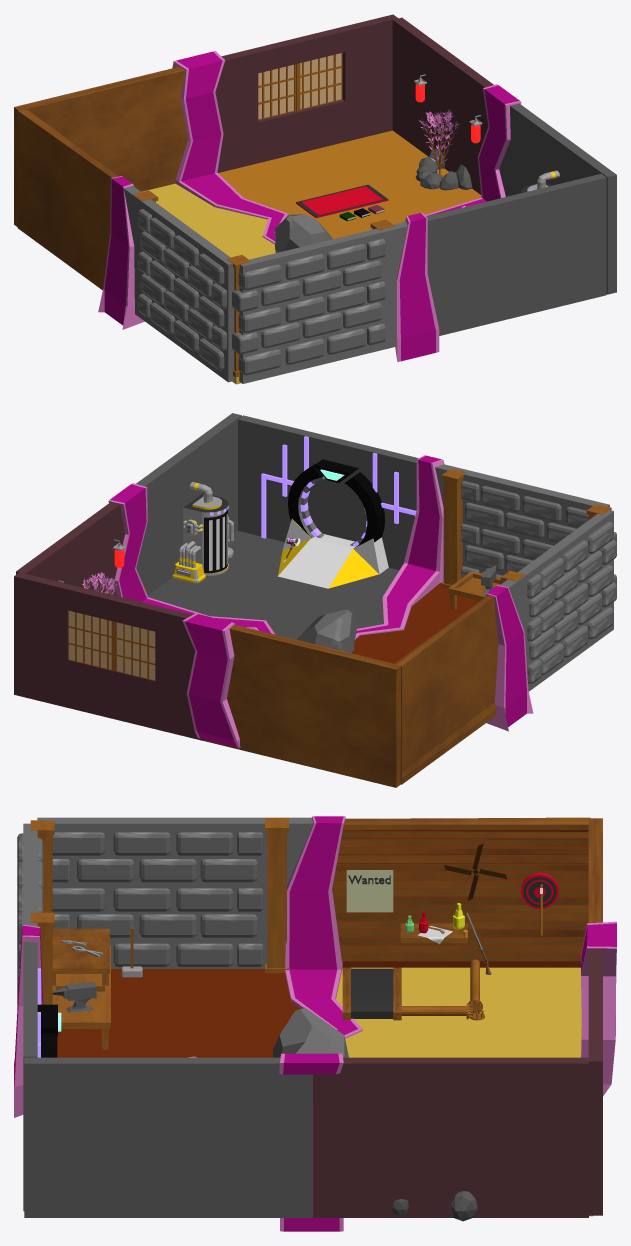
Rendered from lobby.fbx.
The picture shows the model from 3 angles, top to bottom: view 1: azimuth 30°, elevation 25°; view 2: azimuth 150°, elevation 25°; view 3: azimuth 270°, elevation 25°; orthographic projection. The views are drawn at different scales.
Parts seen in each view (by area): view 1: Cube.006, Plane, Cube.007, Cube.066, Cube.010, Cube.009, Cube.008, Cube.015, Cube, Cube.072, Cube.005, Cube.070 (+11 smaller); view 2: Cube.010, Cube.007, Plane, Cube.006, Cube.009, Cube.015, Cube.005, Cube.066, Cube.070, Cube.072, Cube.008, Cube.011 (+14 smaller); view 3: Cube.005, Cube.008, Plane, Cube.009, Cube.015, Cube.004, Cube.069, Cube.007, Cube.072, Cube.030, Cube.014, Cube.071 (+18 smaller).
Boxes of the visible parts, x1,y1,x2,y2 form: Cube.006: (426, 174, 606, 335); Plane: (142, 130, 481, 384); Cube.007: (215, 14, 397, 172); Cube.066: (232, 238, 385, 375); Cube.010: (14, 66, 187, 226); Cube.009: (17, 109, 118, 290); Cube.008: (392, 17, 493, 194); Cube.015: (138, 209, 226, 370); Cube: (239, 221, 407, 383); Cube.072: (172, 51, 288, 244); Cube.005: (499, 103, 616, 294); Cube.070: (395, 212, 439, 361); Cube.010: (203, 624, 400, 787); Cube.007: (14, 572, 203, 740); Plane: (148, 530, 479, 663); Cube.006: (238, 415, 418, 569); Cube.009: (394, 595, 498, 784); Cube.015: (527, 521, 616, 684); Cube.005: (136, 413, 241, 595); Cube.066: (461, 480, 616, 585); Cube.070: (355, 455, 444, 639); Cube.072: (182, 613, 240, 748); Cube.008: (16, 502, 124, 595); Cube.011: (277, 519, 388, 588); Cube.005: (24, 1057, 312, 1217); Cube.008: (313, 1057, 588, 1217); Plane: (57, 967, 593, 1216); Cube.009: (332, 817, 590, 967); Cube.015: (52, 832, 263, 966); Cube.004: (37, 817, 313, 968); Cube.069: (285, 816, 362, 1038); Cube.007: (588, 949, 602, 1215); Cube.072: (581, 921, 616, 1096); Cube.030: (265, 817, 288, 973); Cube.014: (52, 928, 109, 973); Cube.071: (279, 1053, 343, 1231).
Bounding box in the file's own units: 4671 × 1713 × 4601.
Materials: 50 (3 with a texture image).
